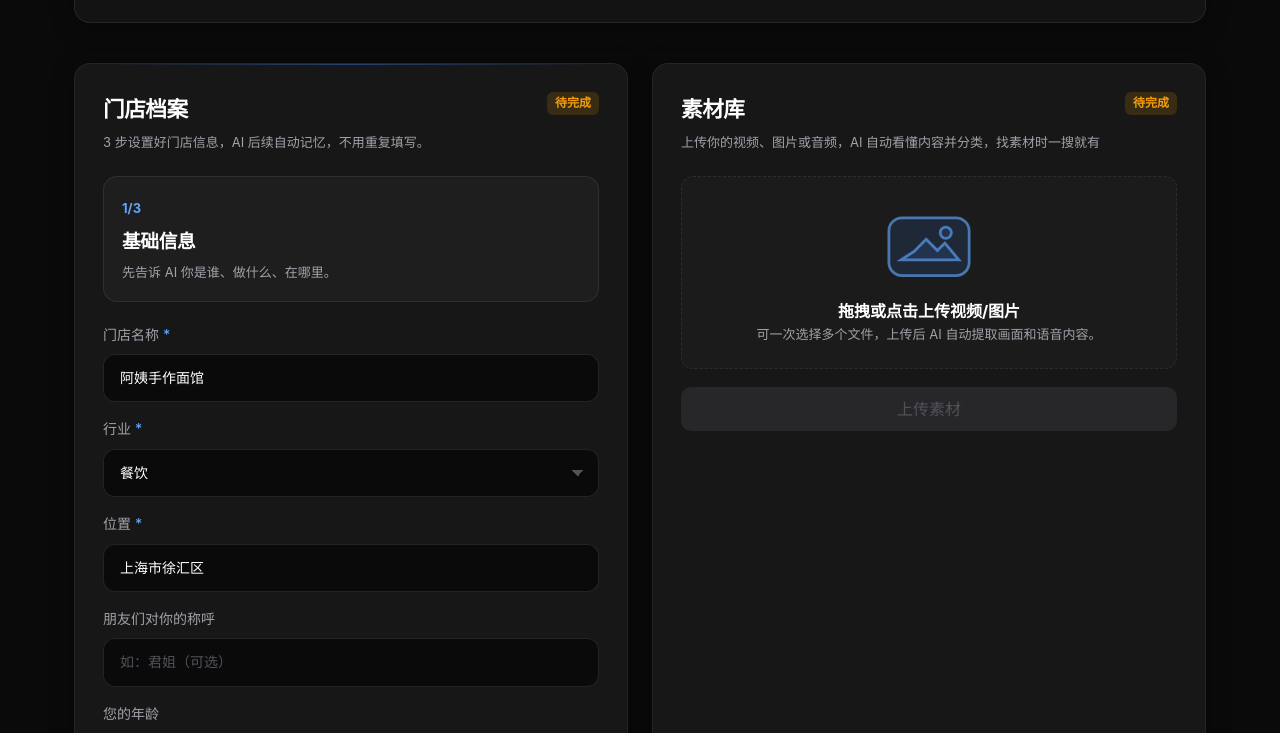
Test case: AI video assistant dashboard › shows a clear validation message when a required field is missing
The image size is (1280, 733).
(page scrolled)
Clear the field labelled "门店名称*" at (351,378), box [103,354,599,402]
(page scrolled)
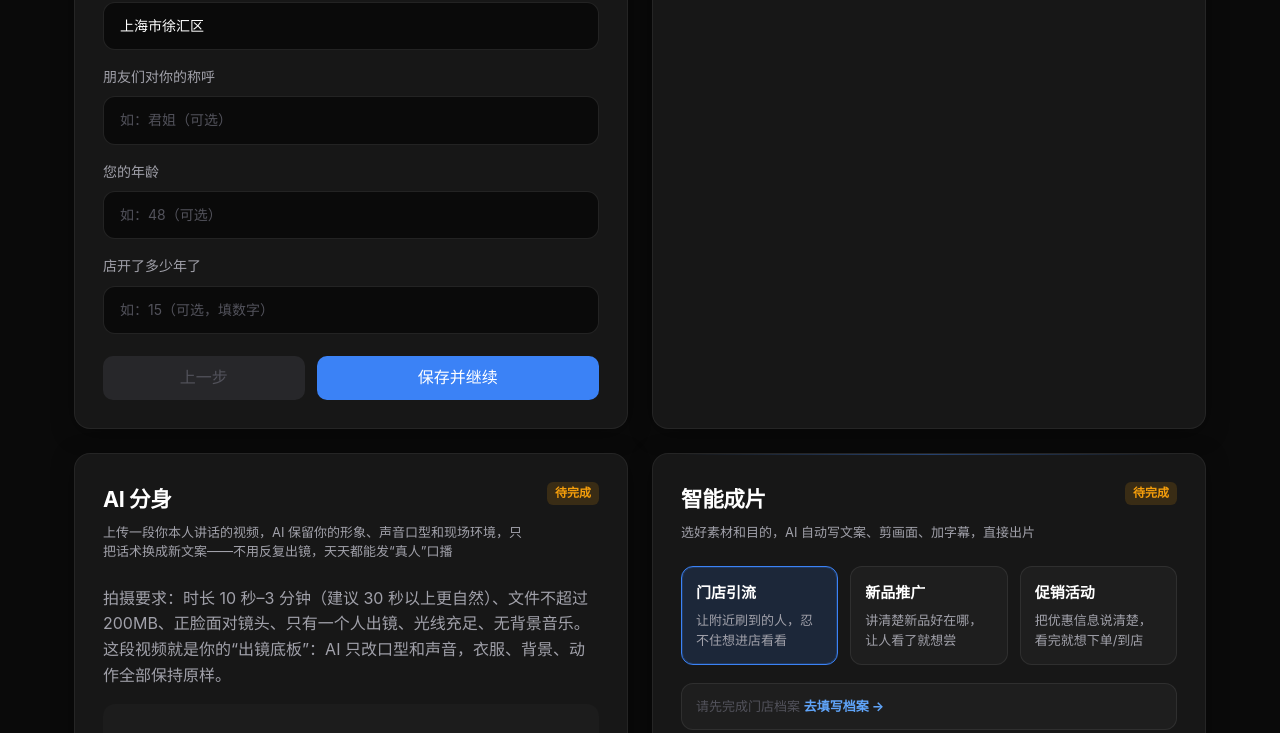
Click the button "保存并继续" at (458,378), box [317,356,599,400]
(page scrolled)
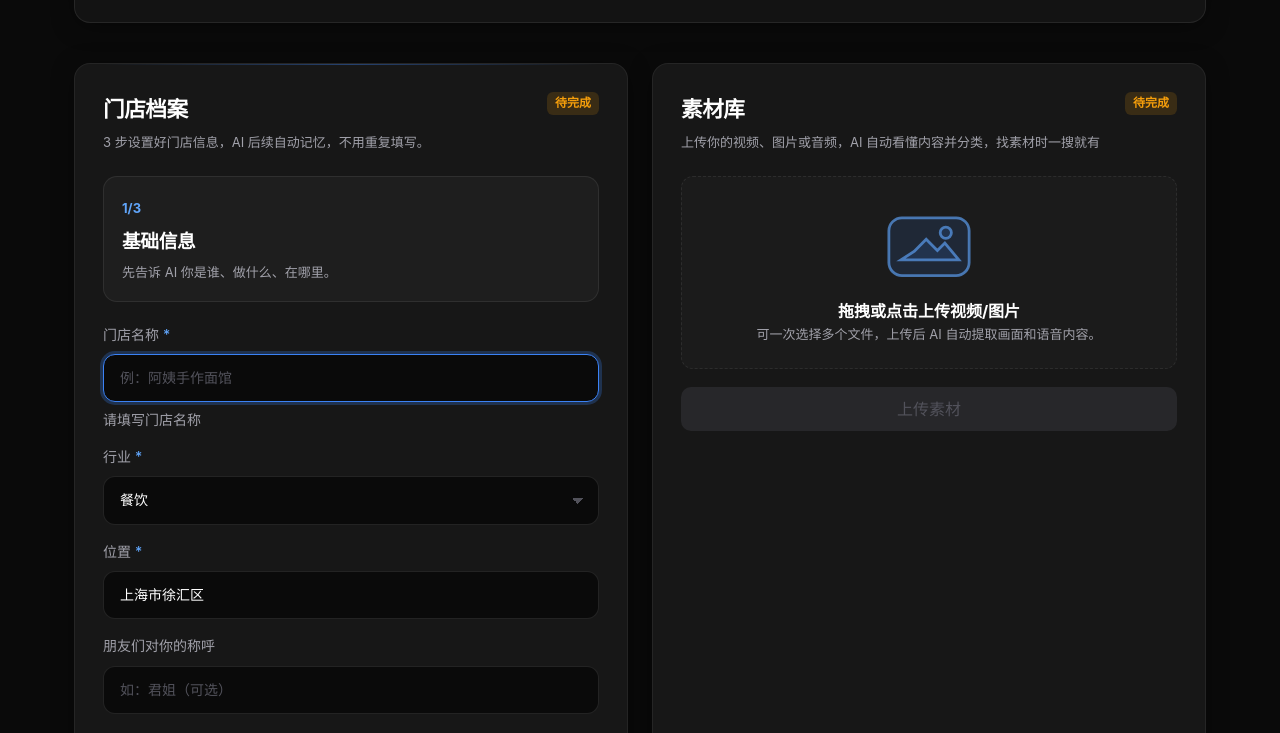
Check: the text "1/3" is shown, box [122,198,141,219]
Check: the text "请填写门店名称" is shown, box [103,411,201,428]
